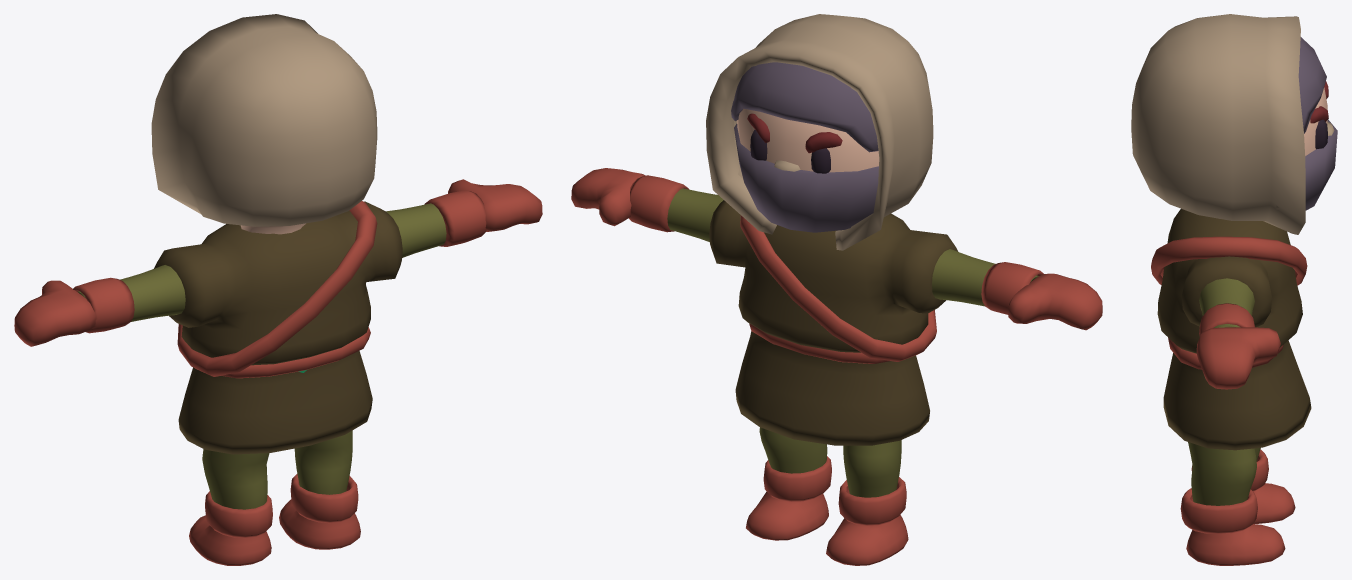
File: robber.fbx
3 renders of one model, left to right at view 1: azimuth 30°, elevation 25°; view 2: azimuth 150°, elevation 25°; view 3: azimuth 270°, elevation 25°, orthographic.
Visible parts, largest first — view 1: Cube.002; view 2: Cube.002; view 3: Cube.002.
Part boxes in pixels (x1,y1,x2,y2): Cube.002: (14,14,542,565); Cube.002: (571,14,1102,565); Cube.002: (1131,14,1337,565).
Size of the model in its own units: 476 by 443 by 164.
